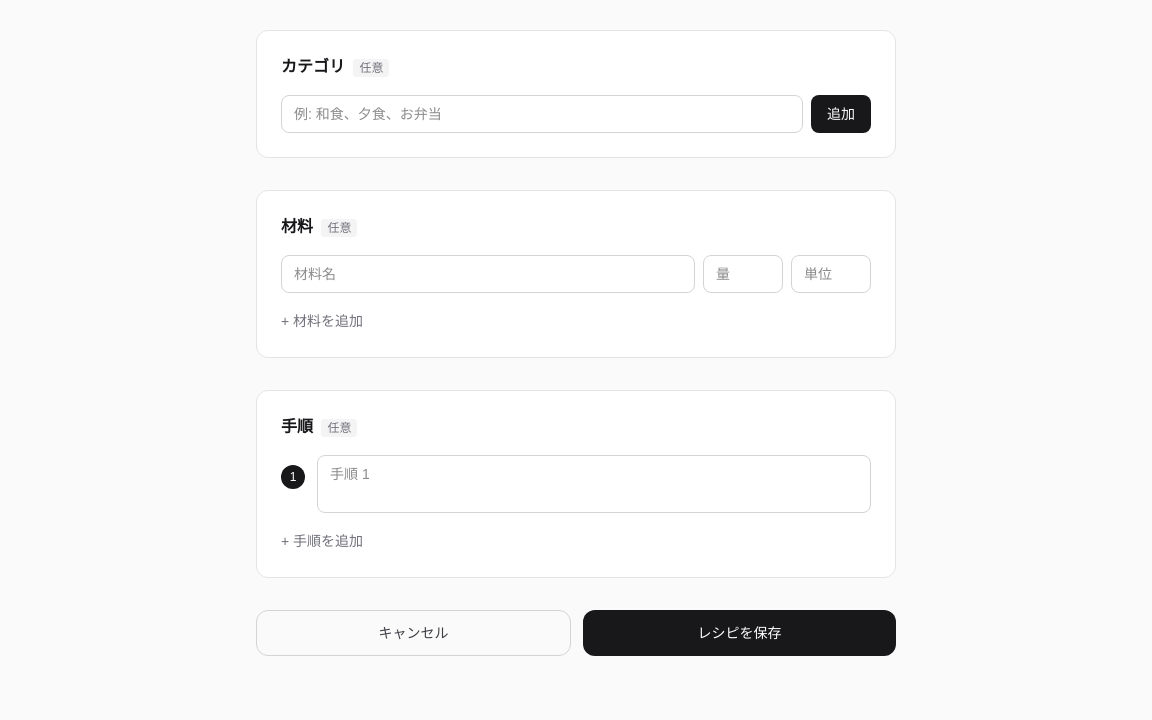
Test: NewRecipePage › タイトルが空のまま送信するとエラーメッセージが表示される
The width and height of the screenshot is (1152, 720).
(page scrolled)
Click the button "レシピを保存" at (740, 633), box [583,610,896,656]
(page scrolled)
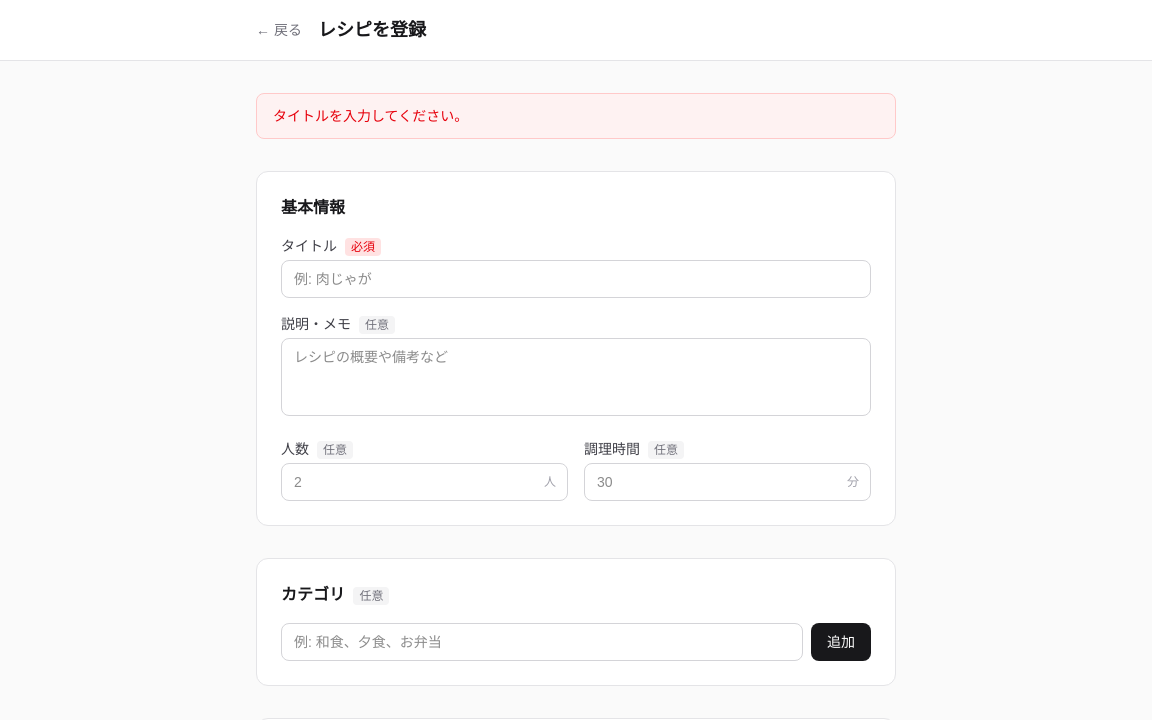
Result: the text "タイトルを入力してください。" is shown at [256,93,896,139]
